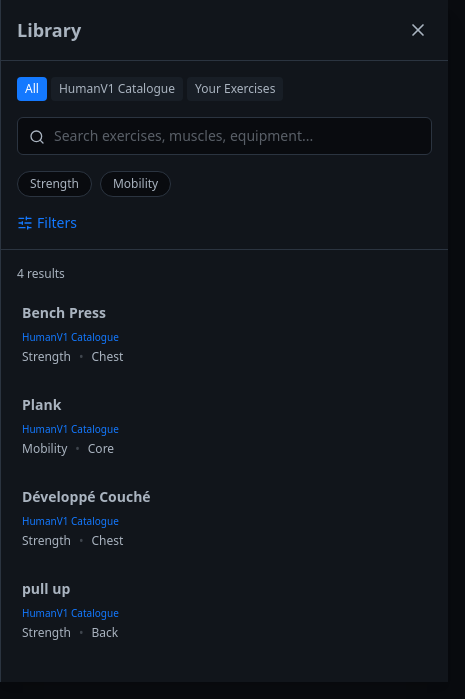
search normalization (case, accents, punctuation)
The image size is (465, 699).
# Test case insensitivity and punctuation
In the field with placeholder "Search exercises, muscles, equipment...": (224, 136) left=17, top=117, right=432, bottom=155, type "CHIN UP"
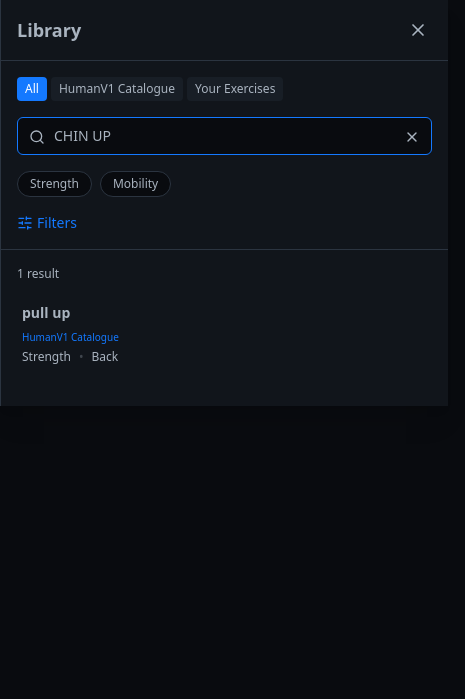
Expected: the text "pull up" is shown, left=22, top=303, right=70, bottom=322
Now the button "Bench Press" is gone
# Test accents
Replace the text in the field with placeholder "Search exercises, muscles, equipment..." with "developpe": (224, 136) left=17, top=117, right=432, bottom=155
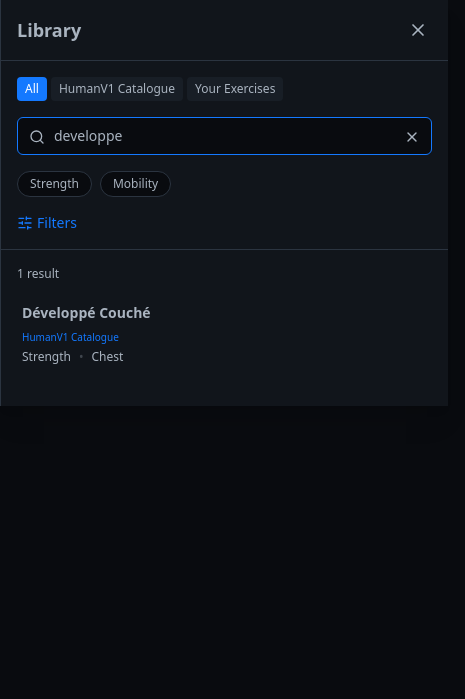
Now the text "Développé Couché" is shown, box left=22, top=303, right=151, bottom=322
Now the button "Bench Press" is gone
